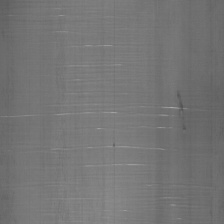waist_folding: (30, 21, 169, 216)
